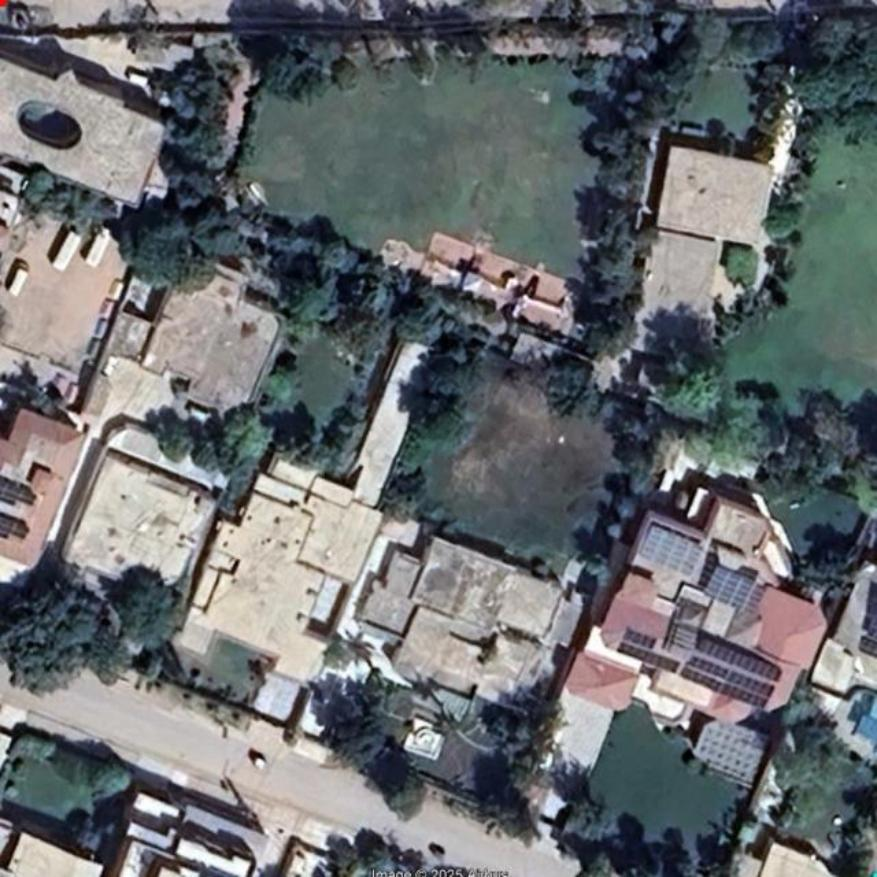Solarpanel: (685, 638, 781, 707), (637, 527, 707, 579), (701, 568, 758, 612), (615, 644, 680, 672), (624, 631, 656, 649)
